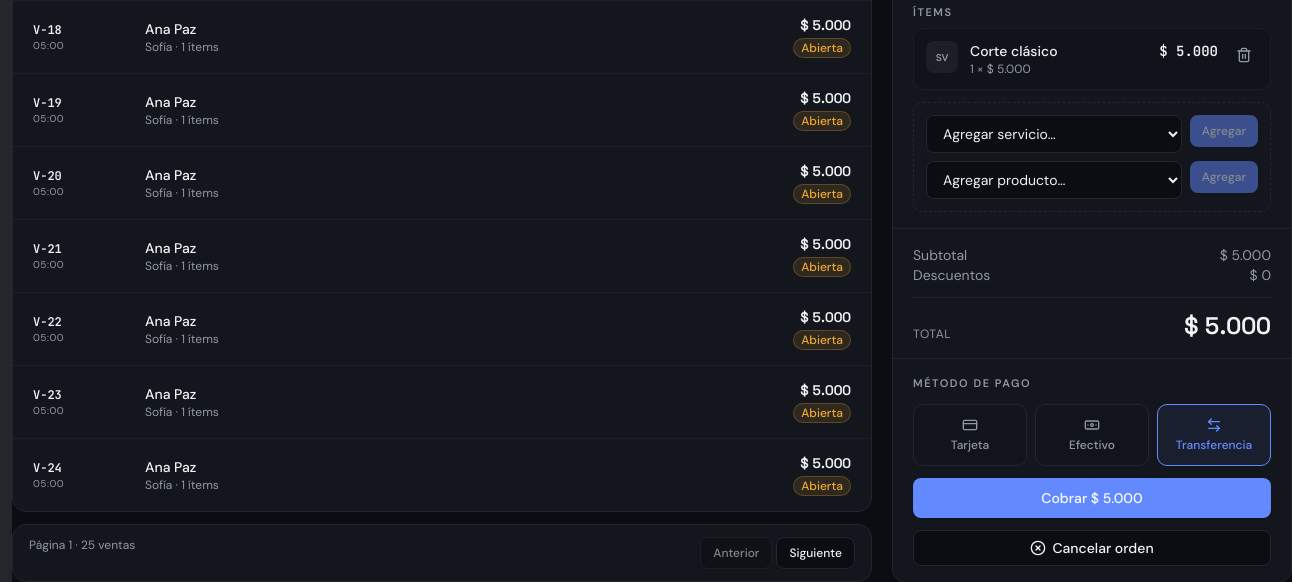
SalesView › moves sales list pagination within the selected day and tab
The width and height of the screenshot is (1292, 582).
(page scrolled)
What coordinates should you click on to do the following:
click the button "Siguiente"
I would click on:
 (816, 553)
Its box is top-left (776, 537), bottom-right (855, 569).
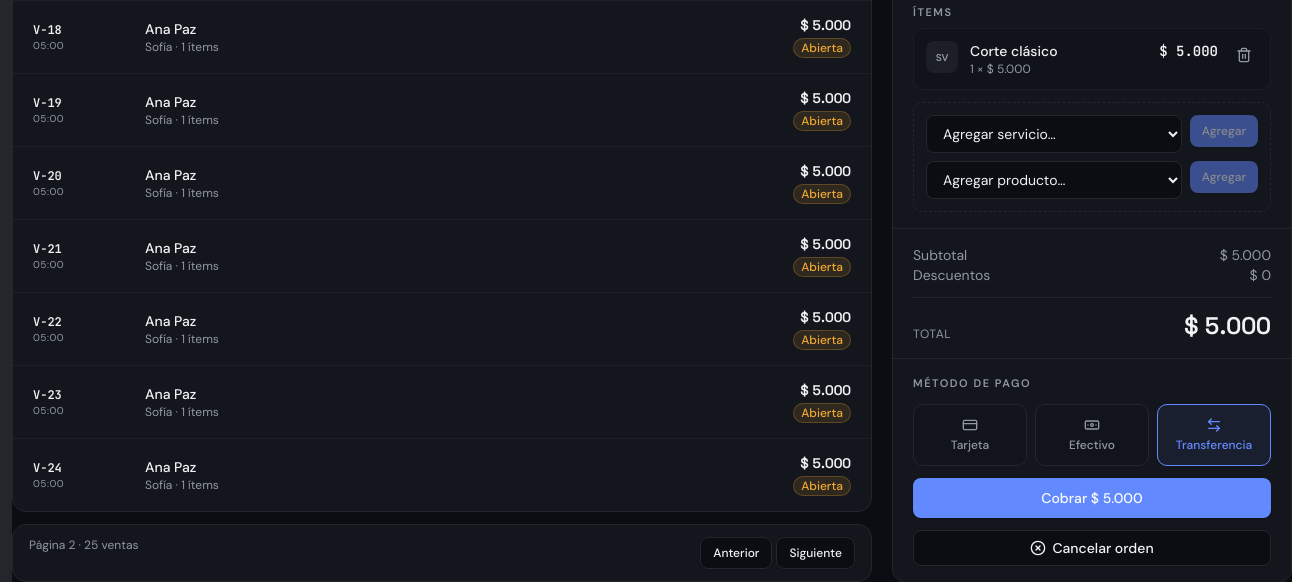
Result: the text "Página 2 · 25 ventas" is shown at top-left (29, 537), bottom-right (138, 553)
